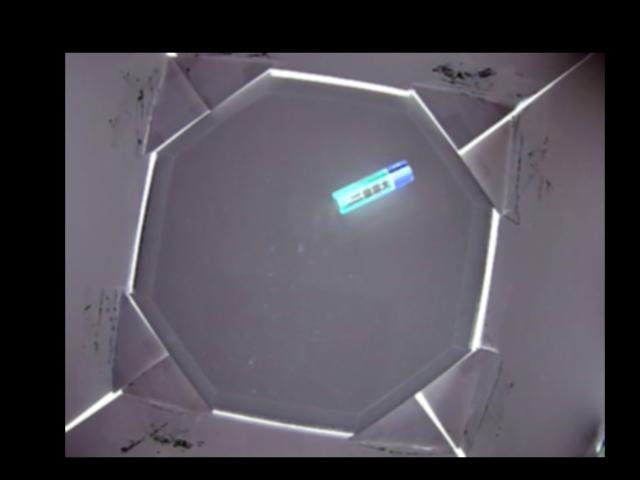Battery: (330, 159, 415, 216)
